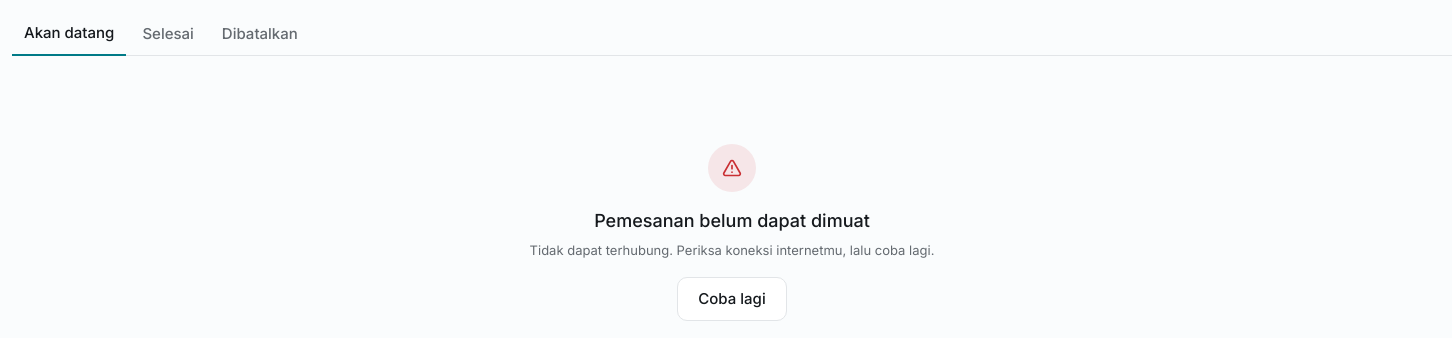
daftar pemesanan › galat: bahasa manusia dan dapat dicoba lagi
The width and height of the screenshot is (1452, 338).
Click the button "Coba lagi" at (732, 299), box x1=677 y1=277 x2=787 y2=321
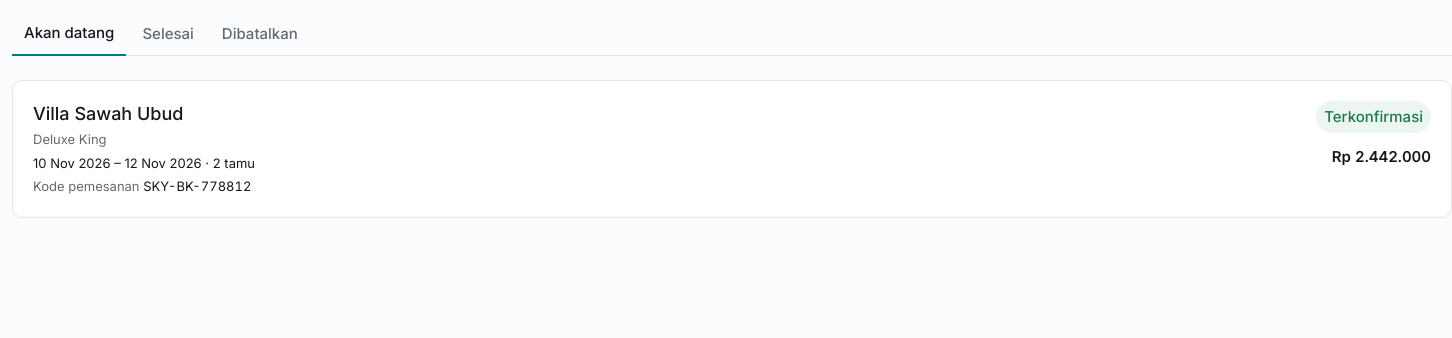
Now the link "Villa Sawah Ubud" is shown, box x1=12 y1=80 x2=1451 y2=218
